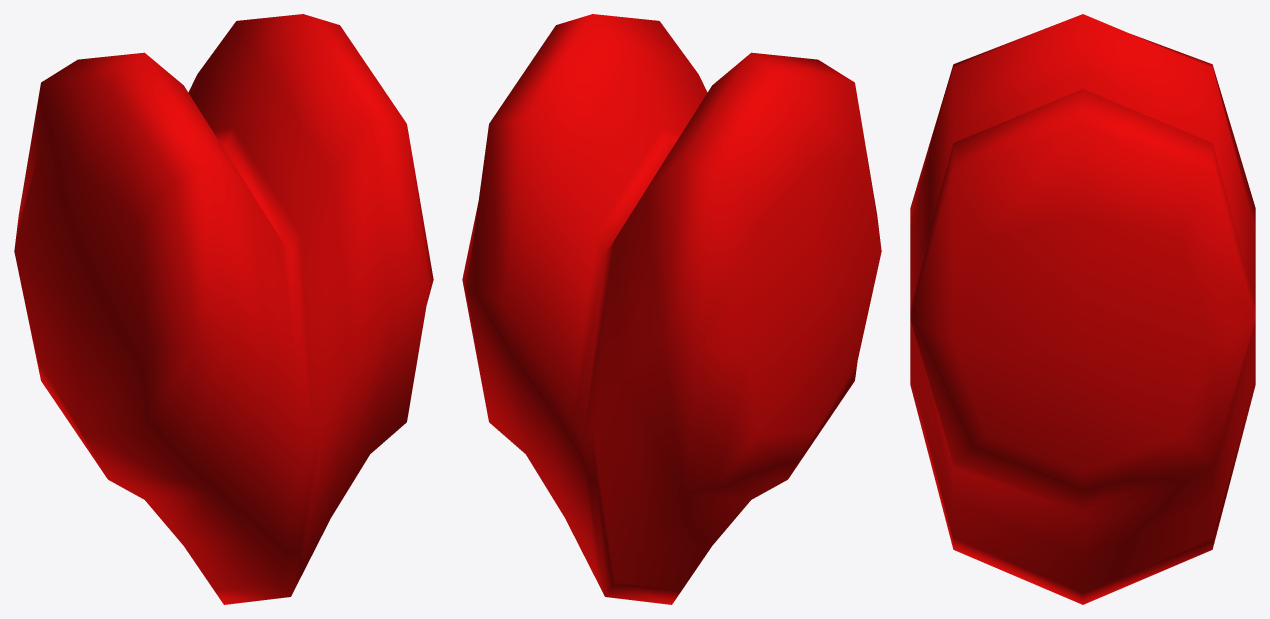
File: heart.fbx
3 views of the same model, side by side, from view 1: azimuth 30°, elevation 25°; view 2: azimuth 150°, elevation 25°; view 3: azimuth 270°, elevation 25° (orthographic). The views are drawn at different scales.
Visible parts, largest first — view 1: heart; view 2: heart; view 3: heart.
Part boxes in pixels (bbox=[...]): heart: bbox=[14, 14, 433, 604]; heart: bbox=[462, 14, 881, 604]; heart: bbox=[910, 14, 1255, 604].
Bounding box in the file's own units: 47 × 84.65 × 47.91.
